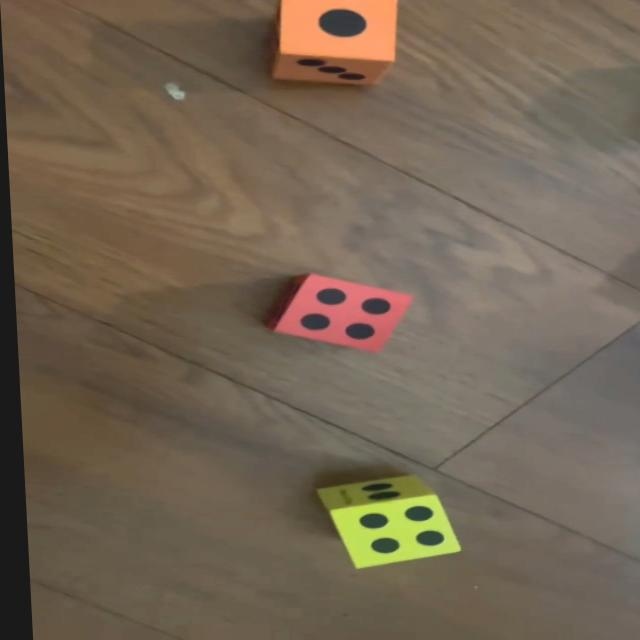cube: (261, 275, 415, 351)
